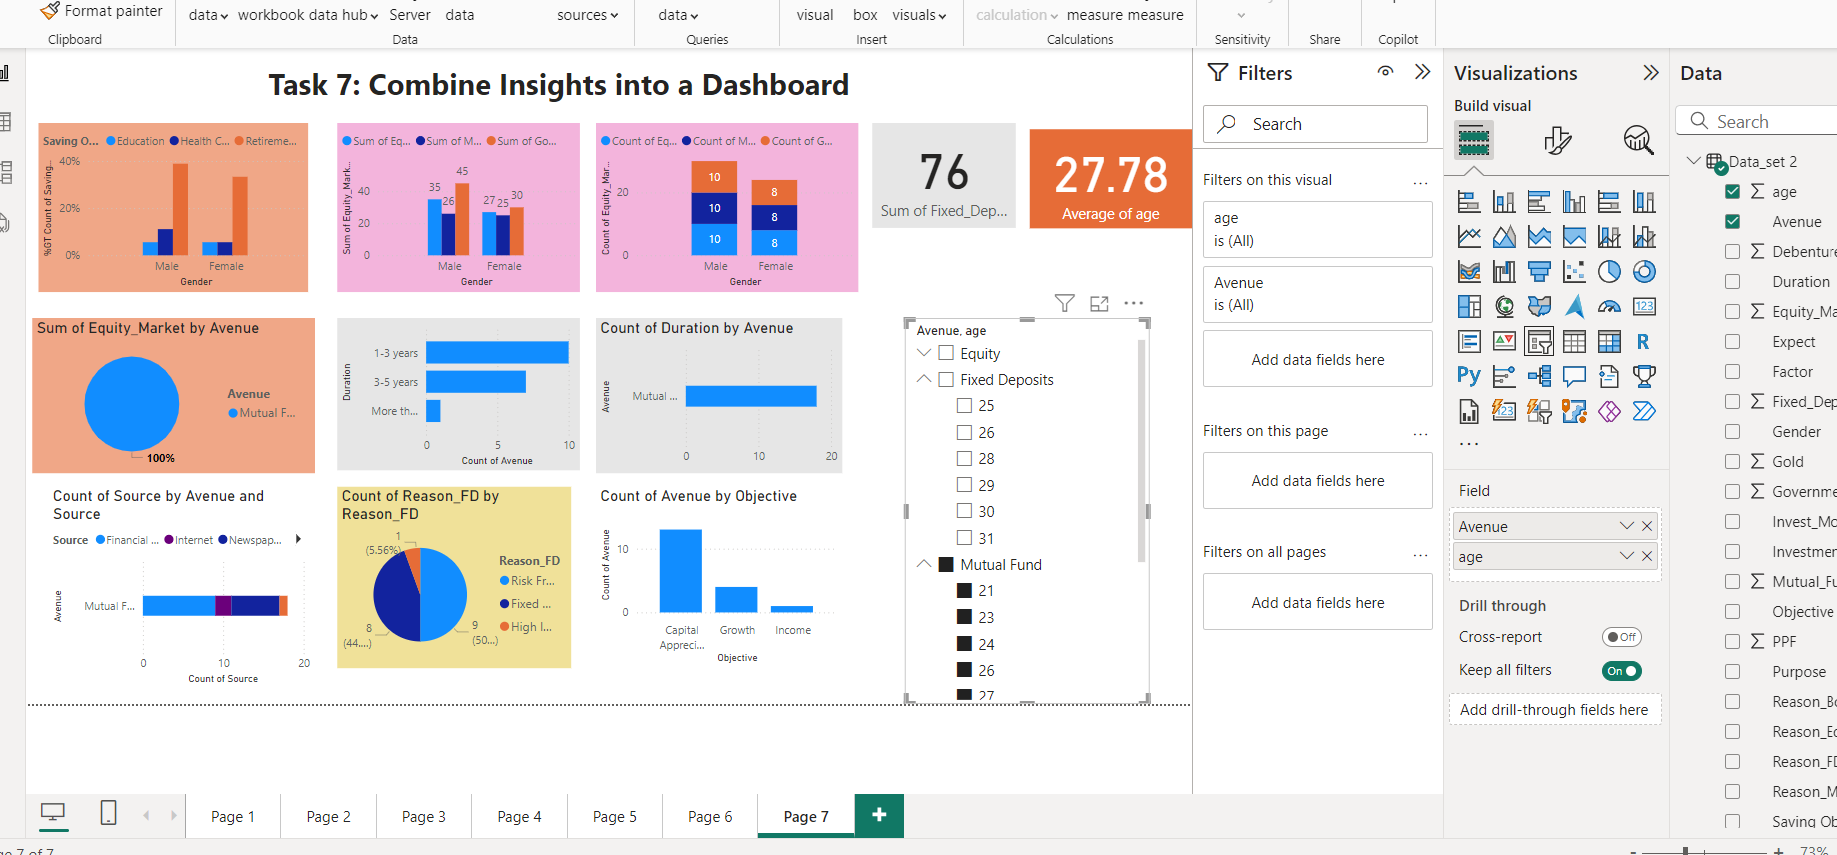

What the dashboard file says about the page in this screenshot:
{"tool":"powerbi","page":{"name":"Page 7","canvas":[1280,720],"ordinal":6},"visuals":[{"type":"card","fields":{"Values":["Avg(Data_set 2.age)"]},"box":[1085.4,118,170.2,115.3],"z":0},{"type":"clusteredColumnChart","fields":{"Category":["Data_set 2.Gender"],"Y":["CountNonNull(Data_set 2.Saving Objective)"],"Series":["Data_set 2.Saving Objective"]},"box":[13.7,82.3,296.4,185.2],"z":1000},{"type":"textbox","box":[0,12.3,1170.5,52.1],"z":2000},{"type":"pieChart","fields":{"Category":["Data_set 2.Avenue"],"Y":["Sum(Data_set 2.Equity_Market)"]},"box":[6.9,296.4,310.1,170.2],"z":3000},{"type":"columnChart","fields":{"Y":["CountNonNull(Data_set 2.Equity_Market)","CountNonNull(Data_set 2.Mutual_Funds)","CountNonNull(Data_set 2.Government_Bonds)"],"Category":["Data_set 2.Gender"]},"box":[625.7,82.3,288.2,185.2],"z":4000},{"type":"clusteredColumnChart","fields":{"Category":["Data_set 2.Gender"],"Y":["Sum(Data_set 2.Equity_Market)","Sum(Data_set 2.Mutual_Funds)","Sum(Data_set 2.Government_Bonds)"]},"box":[341.7,82.3,266.2,185.2],"z":5000},{"type":"columnChart","fields":{"Category":["Data_set 2.Objective"],"Y":["CountNonNull(Data_set 2.Avenue)"]},"box":[625.7,481.6,270.3,199],"z":6000},{"type":"card","fields":{"Values":["Sum(Data_set 2.Fixed_Deposits)"]},"box":[922.1,118,157.8,115.3],"z":7000},{"type":"barChart","fields":{"Category":["Data_set 2.Duration"],"Y":["CountNonNull(Data_set 2.Avenue)"]},"box":[341.7,296.4,266.2,167.4],"z":7001},{"type":"barChart","fields":{"Category":["Data_set 2.Avenue"],"Y":["CountNonNull(Data_set 2.Duration)"]},"box":[625.7,296.4,270.3,170.2],"z":7002},{"type":"pieChart","fields":{"Category":["Data_set 2.Reason_FD"],"Y":["CountNonNull(Data_set 2.Reason_FD)"]},"box":[341.7,481.6,256.6,199],"z":7003},{"type":"barChart","fields":{"Category":["Data_set 2.Avenue"],"Y":["CountNonNull(Data_set 2.Source)"],"Series":["Data_set 2.Source"]},"box":[24.7,481.6,292.3,222.3],"z":7004},{"type":"slicer","fields":{"Values":["Data_set 2.Avenue","Data_set 2.age"]},"box":[922.1,296.4,269,424],"z":7005}]}

Visuals, with their boxes on the page's 1280x720 design canvas (x1, y1, x2, y2). These are canvas units, not pixel positions in the 1837x855 screenshot, which may show the page scaled, cropped or inside an application window:
card - Avg(Data_set 2.age): <box>1085,118,1256,233</box>
clusteredColumnChart - Data_set 2.Gender x CountNonNull(Data_set 2.Saving Objective): <box>14,82,310,268</box>
textbox: <box>0,12,1170,64</box>
pieChart - Data_set 2.Avenue x Sum(Data_set 2.Equity_Market): <box>7,296,317,467</box>
columnChart - CountNonNull(Data_set 2.Equity_Market) x CountNonNull(Data_set 2.Mutual_Funds): <box>626,82,914,268</box>
clusteredColumnChart - Data_set 2.Gender x Sum(Data_set 2.Equity_Market): <box>342,82,608,268</box>
columnChart - Data_set 2.Objective x CountNonNull(Data_set 2.Avenue): <box>626,482,896,681</box>
card - Sum(Data_set 2.Fixed_Deposits): <box>922,118,1080,233</box>
barChart - Data_set 2.Duration x CountNonNull(Data_set 2.Avenue): <box>342,296,608,464</box>
barChart - Data_set 2.Avenue x CountNonNull(Data_set 2.Duration): <box>626,296,896,467</box>
pieChart - Data_set 2.Reason_FD x CountNonNull(Data_set 2.Reason_FD): <box>342,482,598,681</box>
barChart - Data_set 2.Avenue x CountNonNull(Data_set 2.Source): <box>25,482,317,704</box>
slicer - Data_set 2.Avenue x Data_set 2.age: <box>922,296,1191,720</box>
